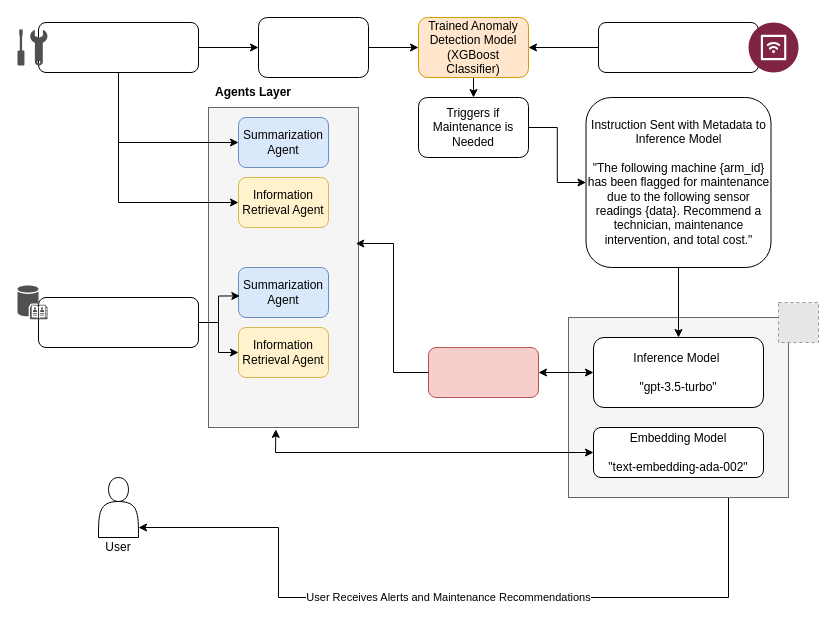
Image size: 836x623. Some labels were removed from this diagram. Grey dashed boxes stand in for pictures. Here are the shapes that lost their labels. From the top down, the centre of each, then its label:
At point (118, 47): "Historical Operational Data".
At point (313, 47): "Classifier Training Pipeline".
At point (678, 47): "Live IoT Sensor Data Acquisition".
At point (118, 322): "Equipment Specific Data".
At point (483, 372): "Function Calling Agent".
